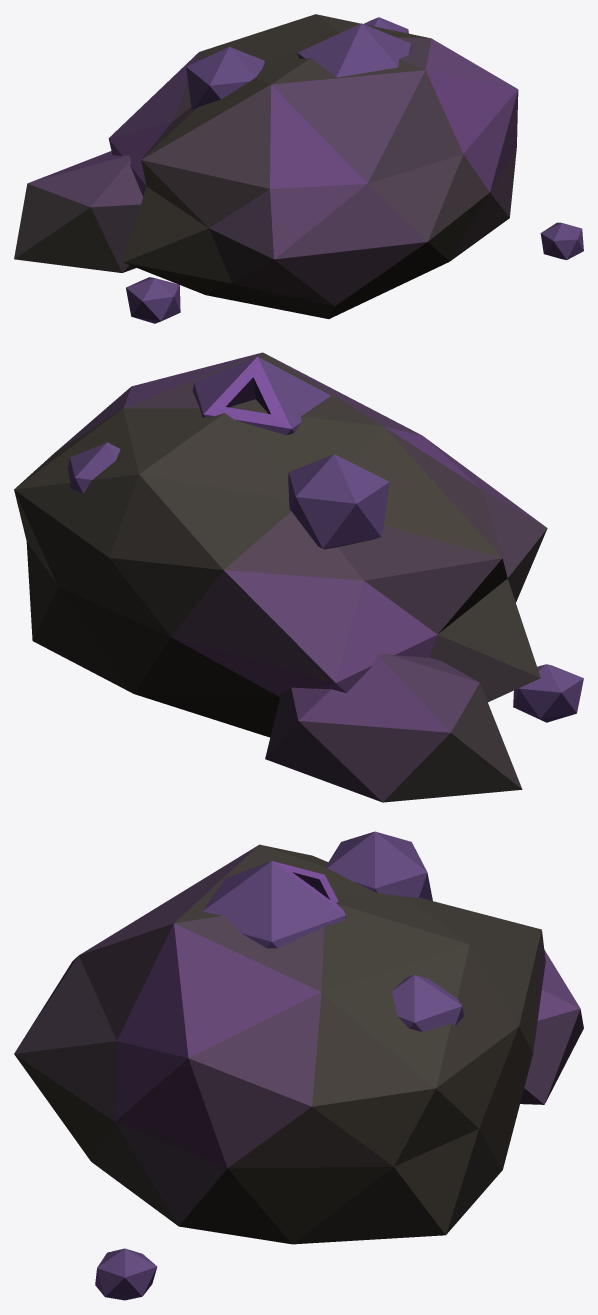
File: Spore_Rock.glb
3 views of the same model, one above another, from view 1: azimuth 30°, elevation 25°; view 2: azimuth 150°, elevation 25°; view 3: azimuth 270°, elevation 25° (orthographic). The views are drawn at different scales.
Parts seen in each view (by area): view 1: Spore_Rock; view 2: Spore_Rock; view 3: Spore_Rock.
Part boxes in pixels (x1,y1,x2,y2): Spore_Rock: [14, 14, 583, 323]; Spore_Rock: [14, 352, 583, 802]; Spore_Rock: [14, 831, 583, 1300].
Size of the model in its own units: 1.86 by 0.9727 by 1.44.
